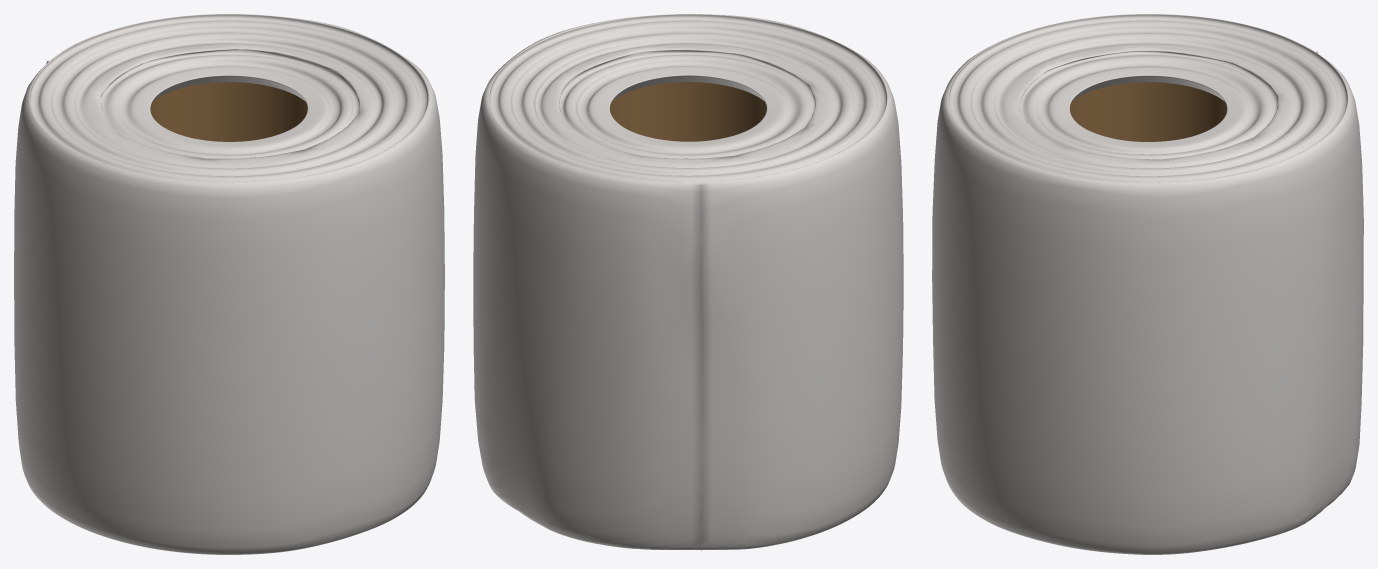
The model's file is toiletpaper.fbx.
3 renders of one model, left to right at view 1: azimuth 30°, elevation 25°; view 2: azimuth 150°, elevation 25°; view 3: azimuth 270°, elevation 25°, orthographic.
Visible parts, largest first — view 1: carta, cartone; view 2: carta, cartone; view 3: carta, cartone.
Boxes of the visible parts, x1,y1,x2,y2 form: carta: (14, 14, 444, 554); cartone: (150, 82, 307, 141); carta: (473, 14, 903, 550); cartone: (610, 82, 766, 141); carta: (932, 14, 1363, 554); cartone: (1070, 82, 1226, 141).
Bounding box in the file's own units: 198 × 189 × 198.
